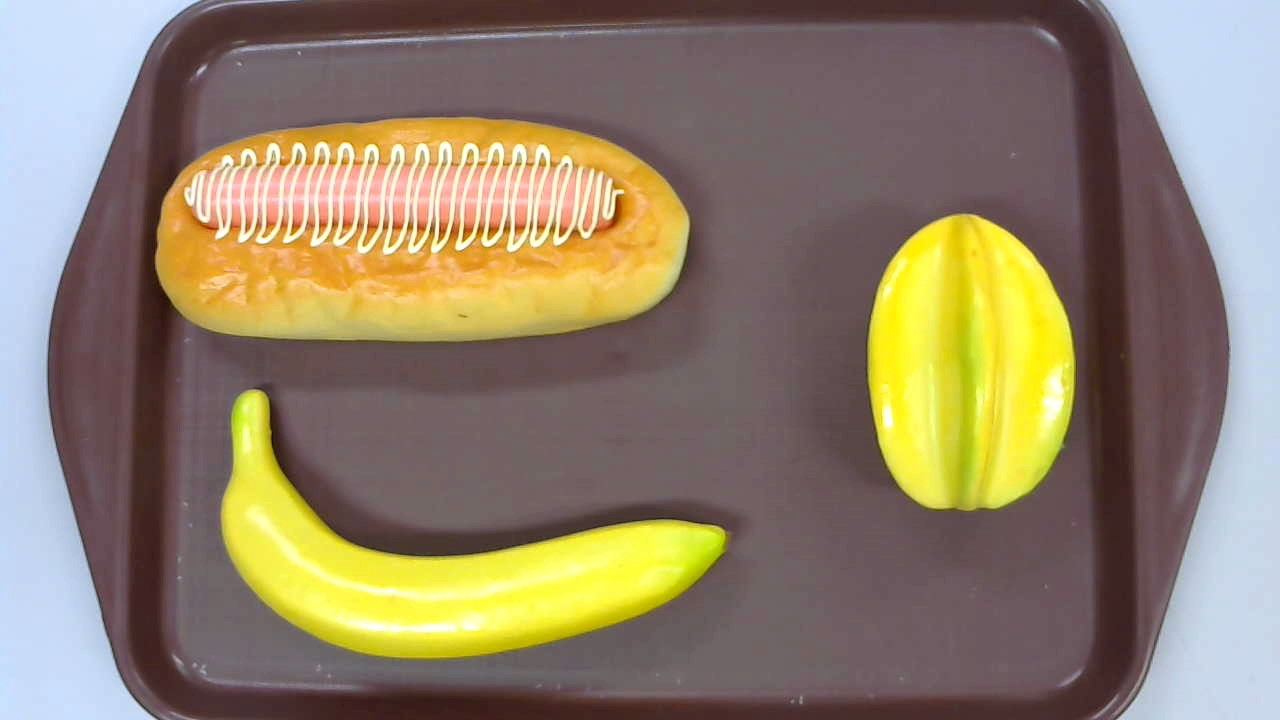banana: (221, 389, 732, 659)
hot dog: (154, 116, 689, 341)
star fruit: (866, 212, 1076, 514)
